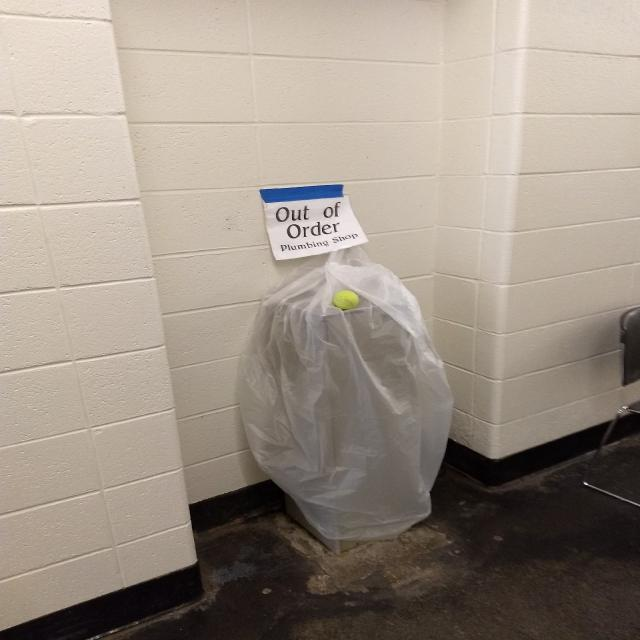Tennis-Ball: (333, 288, 361, 311)
